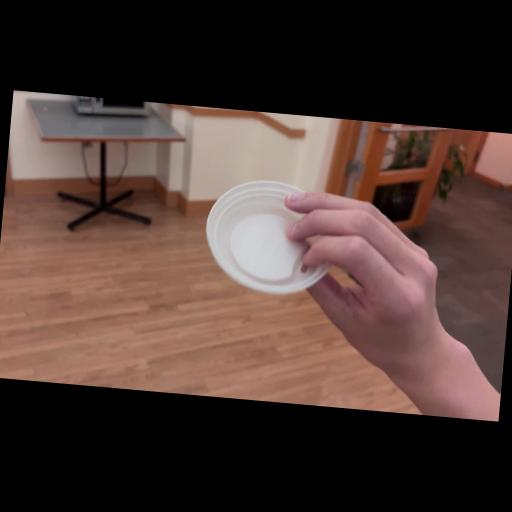lp_cup_lids: (199, 175, 346, 302)
